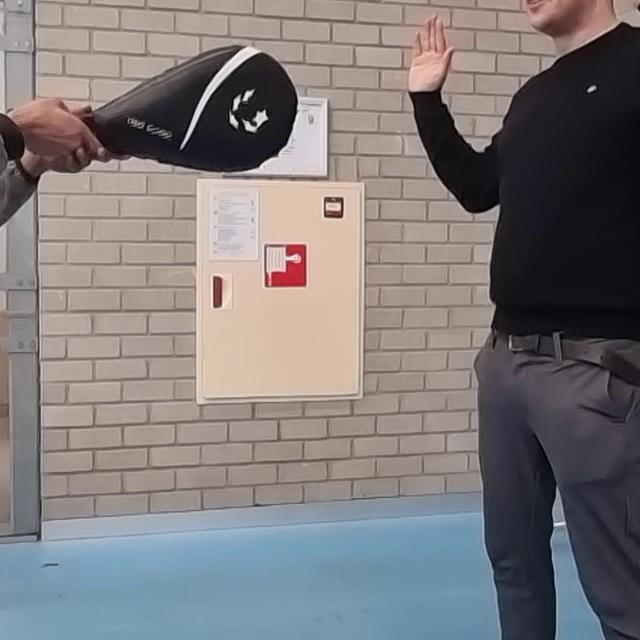paddle: (57, 43, 300, 172)
